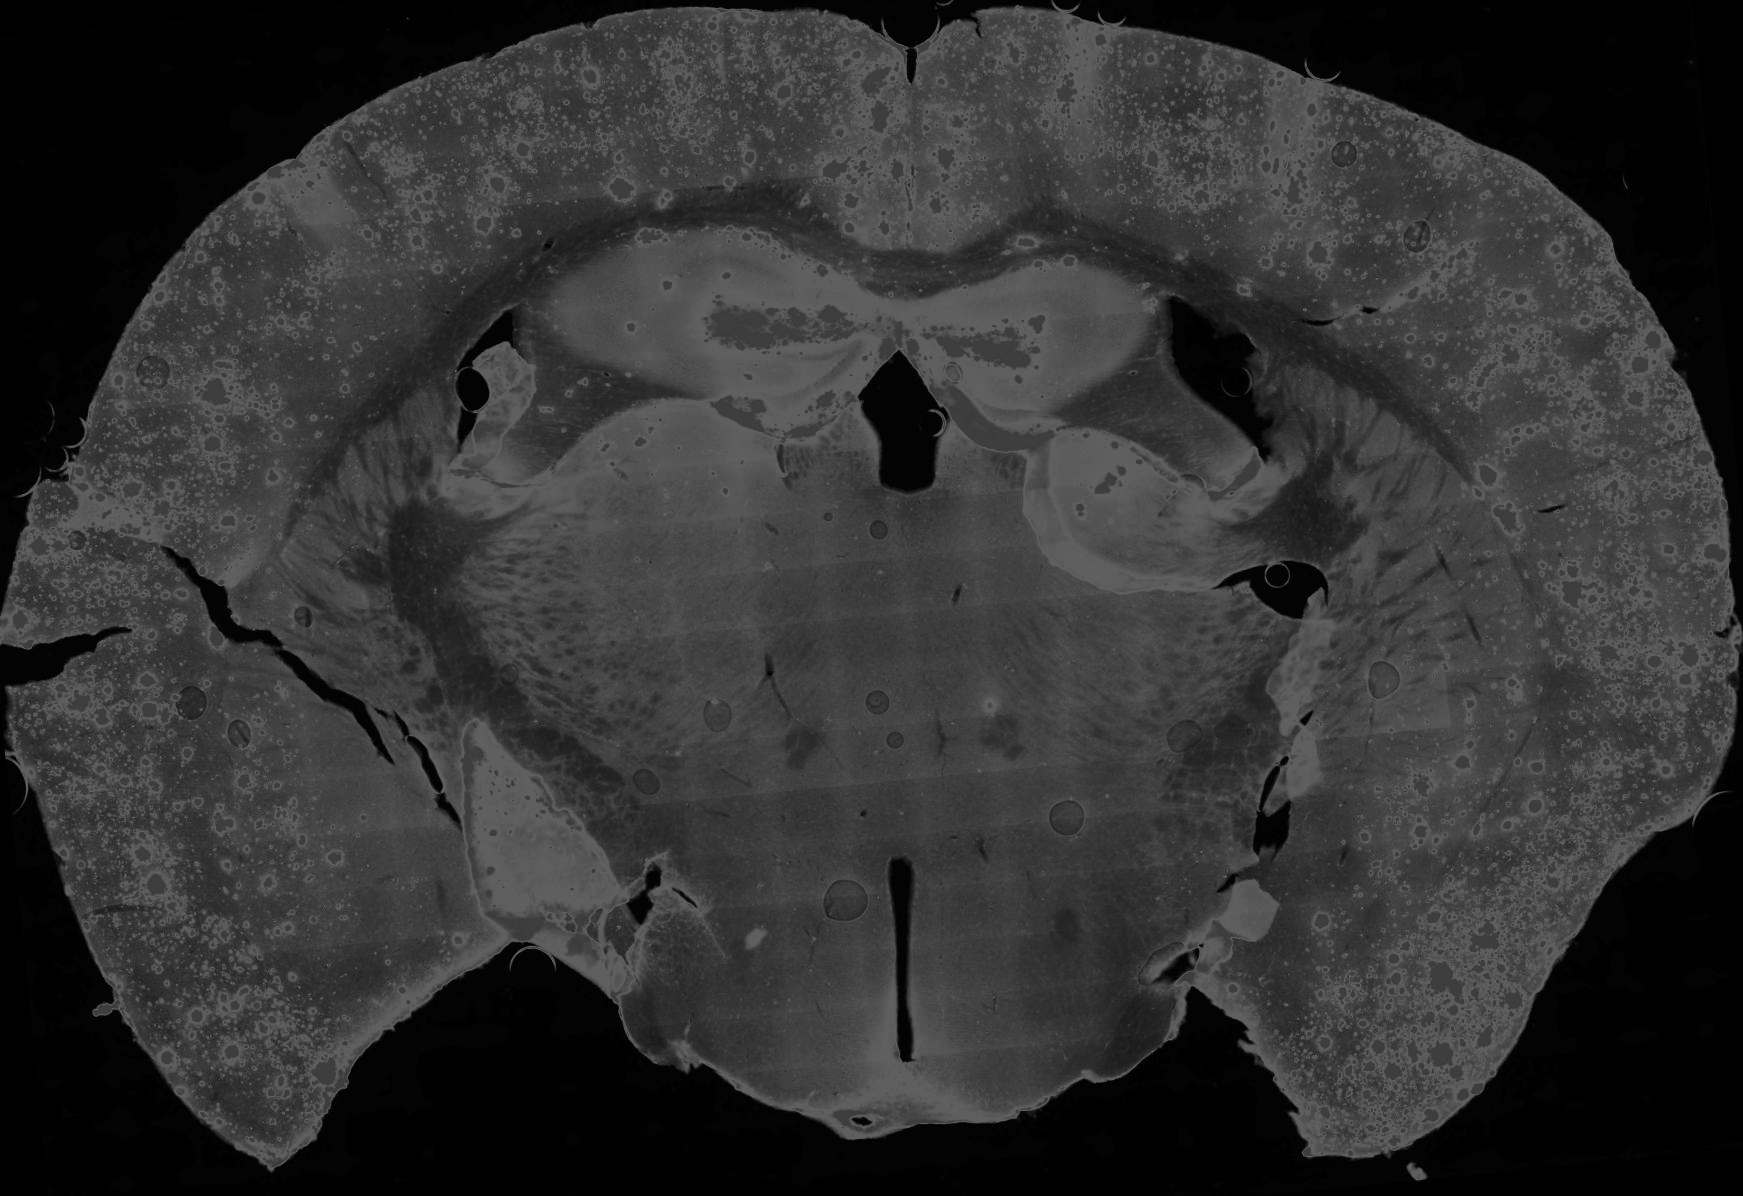Cerebral nuclei: (1269, 363, 1546, 819), (234, 376, 460, 759)
Hippocampal formation: (547, 229, 901, 442), (899, 260, 1151, 452)
Hypothalamus: (501, 740, 909, 1144), (899, 735, 1249, 1131)
Retrosplenial area: (910, 11, 1033, 256), (795, 19, 910, 252)
Somatosensory area: (65, 23, 640, 584), (1225, 77, 1717, 526)
Thalamus: (452, 400, 910, 766), (898, 421, 1291, 758)
